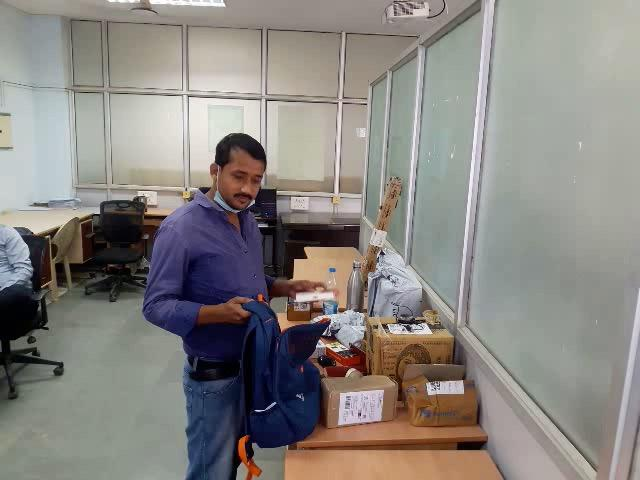shoplifting: (137, 247, 386, 412)
